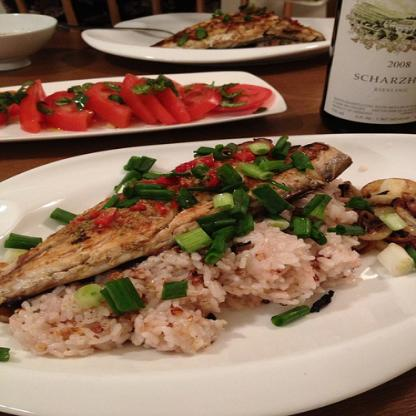Peixe: (0, 130, 340, 306)
